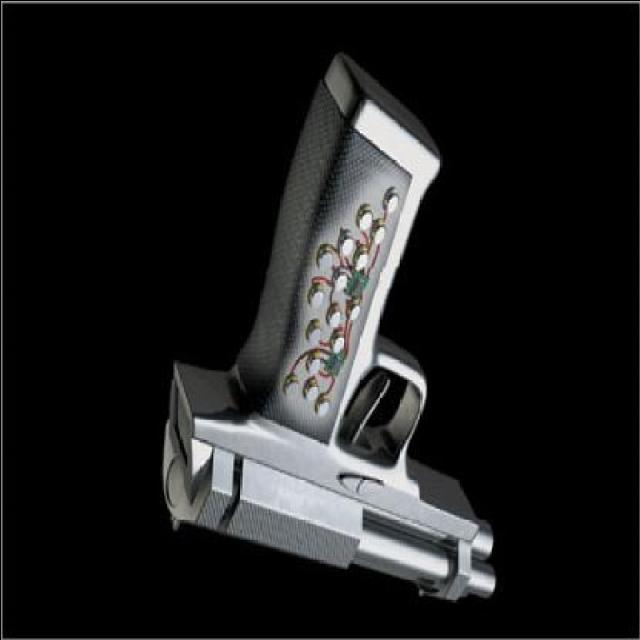pistol: (162, 55, 501, 607)
